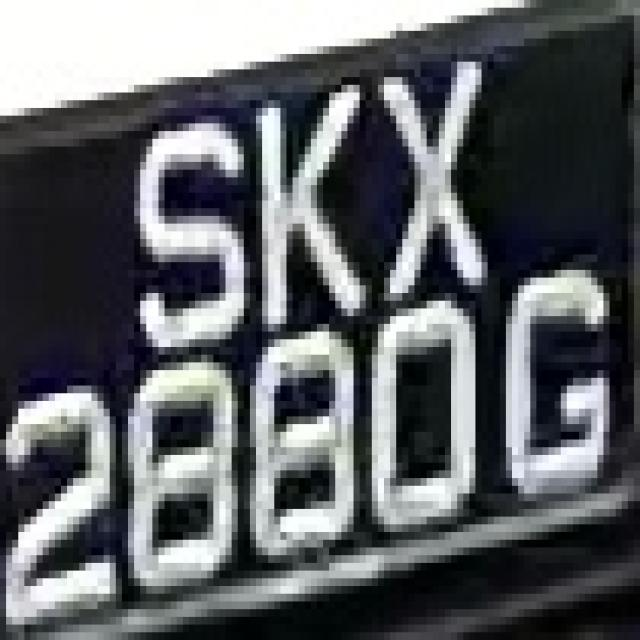0: (359, 301, 482, 555)
2: (18, 347, 122, 625)
8: (250, 316, 360, 578), (116, 355, 244, 578)
G: (506, 231, 616, 517)
K: (232, 61, 354, 332)
S: (134, 77, 238, 363)
X: (366, 39, 506, 316)
